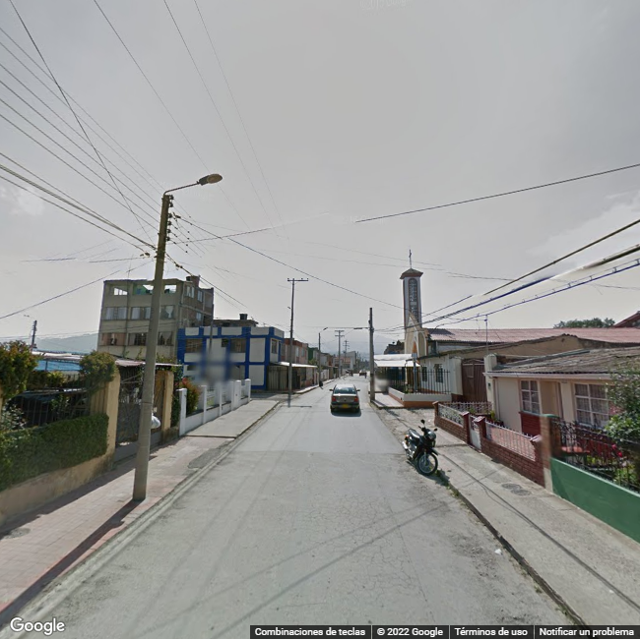D00: (384, 496, 444, 621)
D20: (305, 489, 397, 553)
